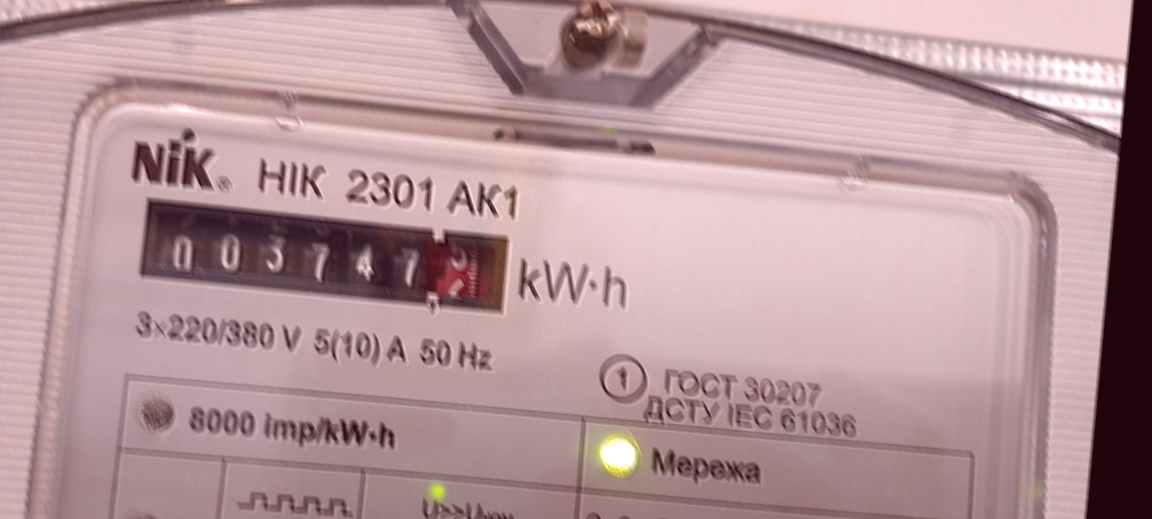0: (172, 234, 197, 271), (220, 232, 243, 272)
3: (266, 235, 288, 273)
4: (354, 241, 378, 283)
5: (449, 241, 471, 271)
6: (447, 277, 467, 299)
7: (398, 246, 423, 288), (309, 242, 332, 283)
screen: (130, 188, 527, 329)
